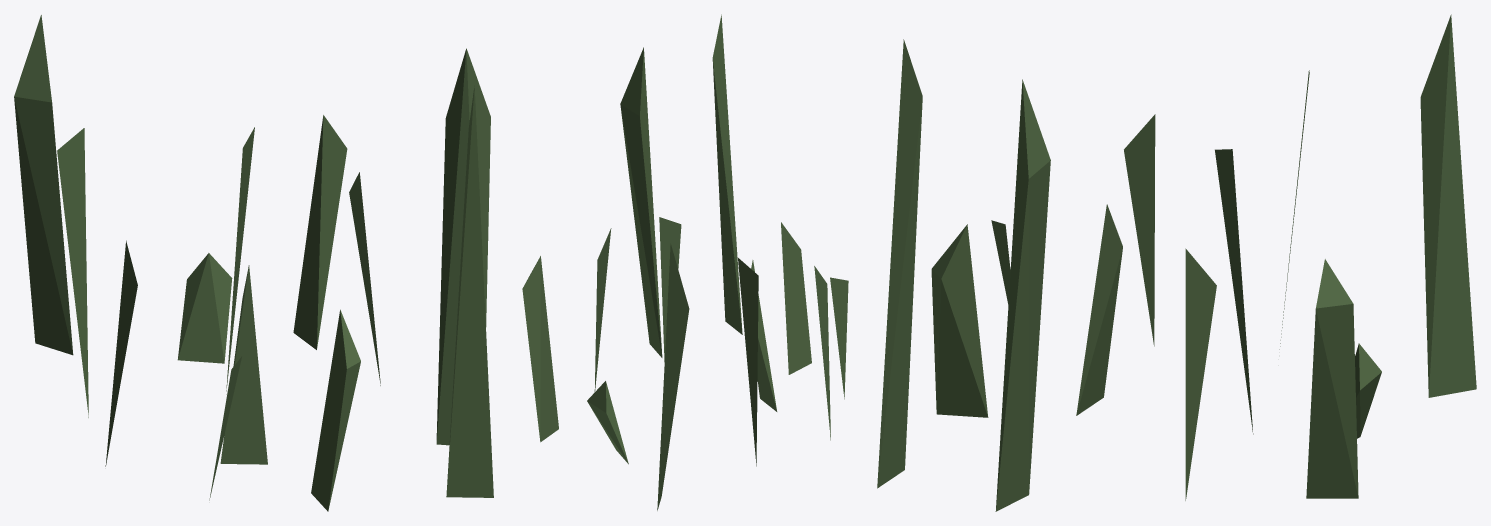
The model's file is Grass_Short.lod2.glb.
The picture shows the model from 3 angles, left to right: view 1: azimuth 30°, elevation 25°; view 2: azimuth 150°, elevation 25°; view 3: azimuth 270°, elevation 25°; orthographic projection. The views are drawn at different scales.
Visible parts, largest first — view 1: Grass_Short; view 2: Grass_Short; view 3: Grass_Short.
Part boxes in pixels (x1,y1,x2,y2): Grass_Short: (14,15,493,511); Grass_Short: (522,14,848,510); Grass_Short: (877,14,1476,511).
Bounding box in the file's own units: 0.3015 × 0.3565 × 0.4343.
